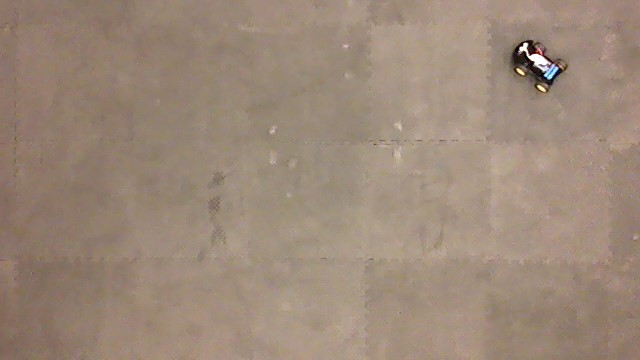Agent: (510, 37, 570, 95)
